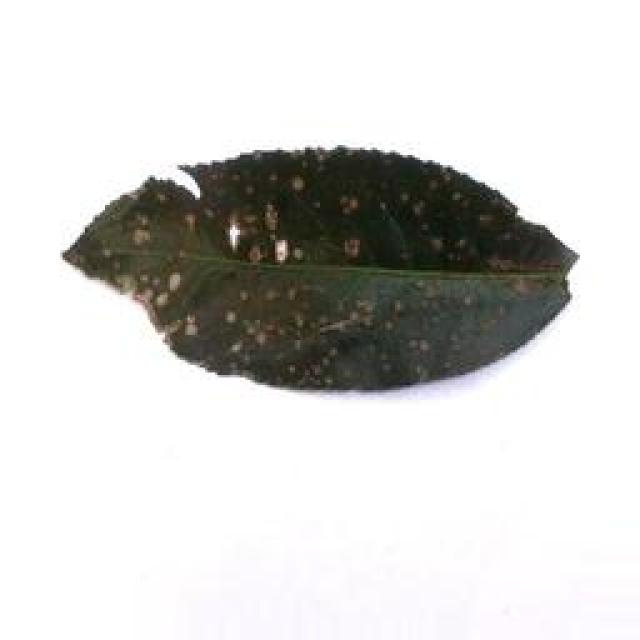Algal Leaf Spot: (62, 143, 583, 393)
